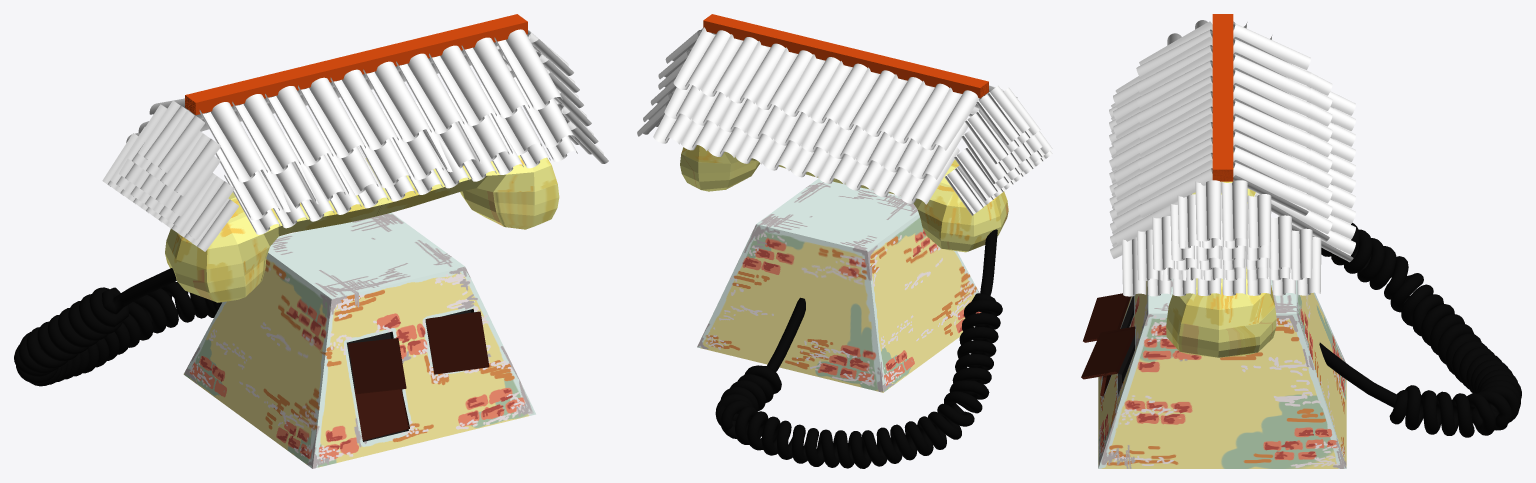
Rendered from reieitura-telefone_crt.glb.
The picture shows the model from 3 angles, left to right: view 1: azimuth 30°, elevation 25°; view 2: azimuth 150°, elevation 25°; view 3: azimuth 270°, elevation 25°; orthographic projection. The views are drawn at different scales.
Visible parts, largest first — view 1: Casa, Roof.005, Telefone, Roof.004, Fio, Roof.006, Cubo.003, Janela, Roof.016, Roof.014, Porta de cima, Roof.013 (+3 smaller); view 2: Casa, Roof.003, Fio, Roof.002, Roof.001, Telefone, Cubo.003, Roof.014, Roof.016, Roof.013, Roof.015, Roof.017; view 3: Casa, Fio, Roof.003, Roof.005, Telefone, Roof.012, Roof.004, Roof.001, Roof.002, Cubo.003, Roof.011, Roof.010 (+6 smaller).
Boxes of the visible parts, bbox=[...] form: Casa: bbox=[183, 212, 535, 468]; Roof.005: bbox=[199, 29, 562, 182]; Telefone: bbox=[165, 155, 559, 302]; Roof.004: bbox=[215, 77, 574, 220]; Fio: bbox=[14, 268, 221, 386]; Roof.006: bbox=[224, 105, 577, 234]; Cubo.003: bbox=[185, 14, 527, 114]; Janela: bbox=[425, 311, 489, 374]; Roof.016: bbox=[110, 126, 234, 239]; Roof.014: bbox=[126, 104, 220, 196]; Porta de cima: bbox=[348, 338, 406, 394]; Roof.013: bbox=[138, 100, 204, 172]; Casa: bbox=[697, 178, 981, 392]; Roof.003: bbox=[673, 27, 979, 150]; Fio: bbox=[715, 229, 1002, 468]; Roof.002: bbox=[664, 84, 968, 179]; Roof.001: bbox=[653, 113, 959, 204]; Telefone: bbox=[680, 145, 1008, 252]; Cubo.003: bbox=[703, 14, 988, 98]; Roof.014: bbox=[964, 87, 1040, 164]; Roof.016: bbox=[954, 131, 1052, 200]; Roof.013: bbox=[976, 85, 1029, 145]; Roof.015: bbox=[961, 130, 1042, 183]; Roof.017: bbox=[945, 151, 1052, 215]; Casa: bbox=[1098, 278, 1346, 468]; Fio: bbox=[1319, 223, 1521, 437]; Roof.003: bbox=[1233, 23, 1310, 215]; Roof.005: bbox=[1136, 21, 1212, 217]; Telefone: bbox=[1166, 137, 1276, 357]; Roof.012: bbox=[1122, 237, 1321, 296]; Roof.004: bbox=[1113, 76, 1191, 245]; Roof.001: bbox=[1277, 91, 1355, 262]; Roof.002: bbox=[1254, 70, 1332, 241]; Cubo.003: bbox=[1212, 14, 1233, 181]; Roof.011: bbox=[1137, 228, 1312, 280]; Roof.010: bbox=[1152, 215, 1291, 270].
Size of what is drawn, in the model's own units: 9.86 by 7.68 by 8.62.
7 materials, 3 textured.
